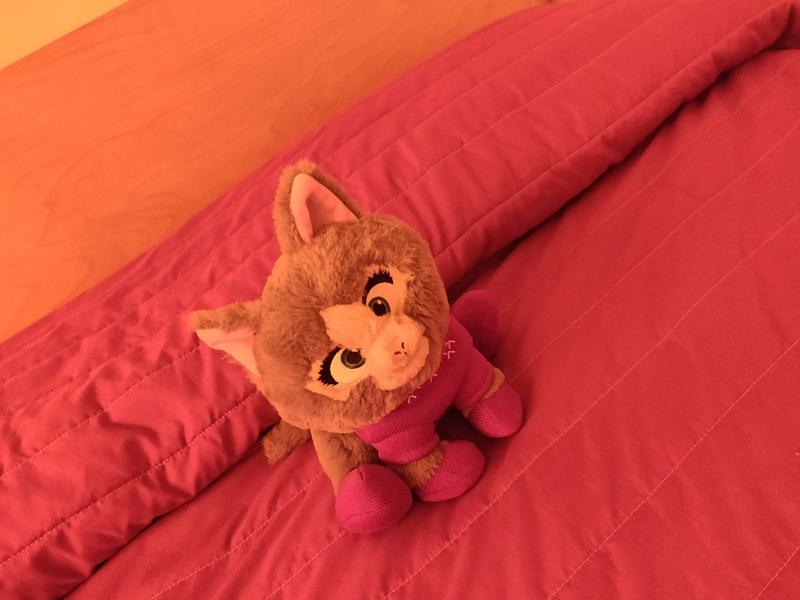kitten: (180, 159, 544, 538)
